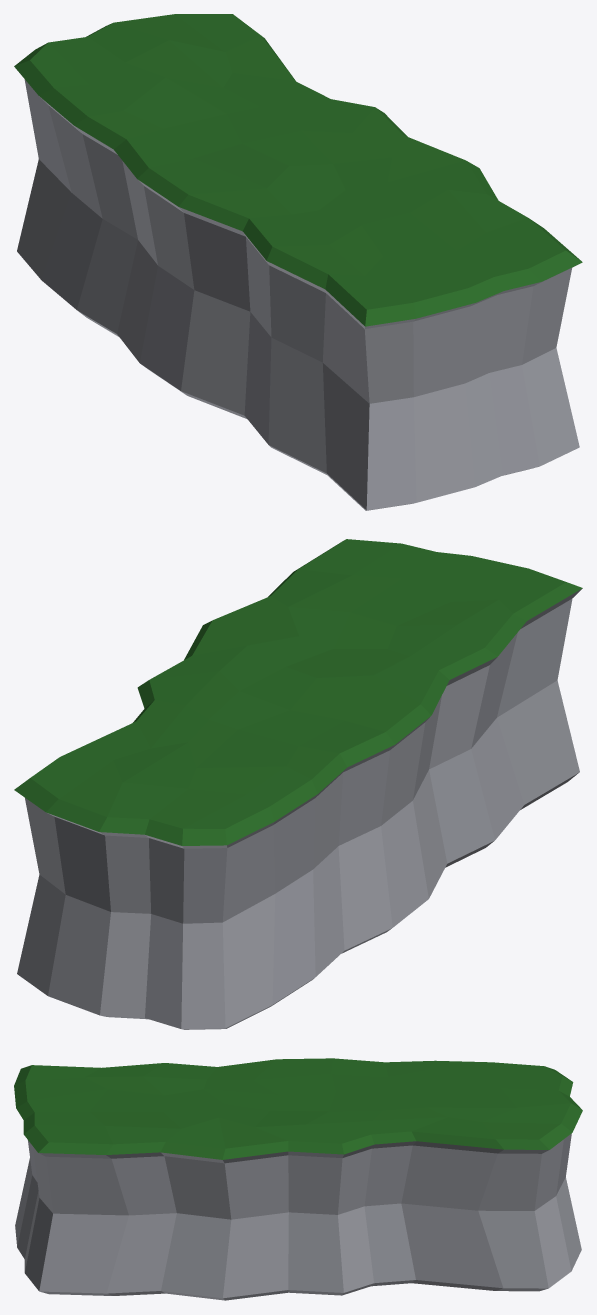
File: cliff6.fbx
3 views of the same model, one above another, from view 1: azimuth 30°, elevation 25°; view 2: azimuth 150°, elevation 25°; view 3: azimuth 270°, elevation 25° (orthographic). The views are drawn at different scales.
Parts seen in each view (by area): view 1: Plane.001; view 2: Plane.001; view 3: Plane.001.
Part boxes in pixels (<box>): Plane.001: <box>14,14,582,510</box>; Plane.001: <box>14,539,582,1029</box>; Plane.001: <box>14,1058,582,1300</box>.
Size of the model in its own units: 274 by 200 by 668.
